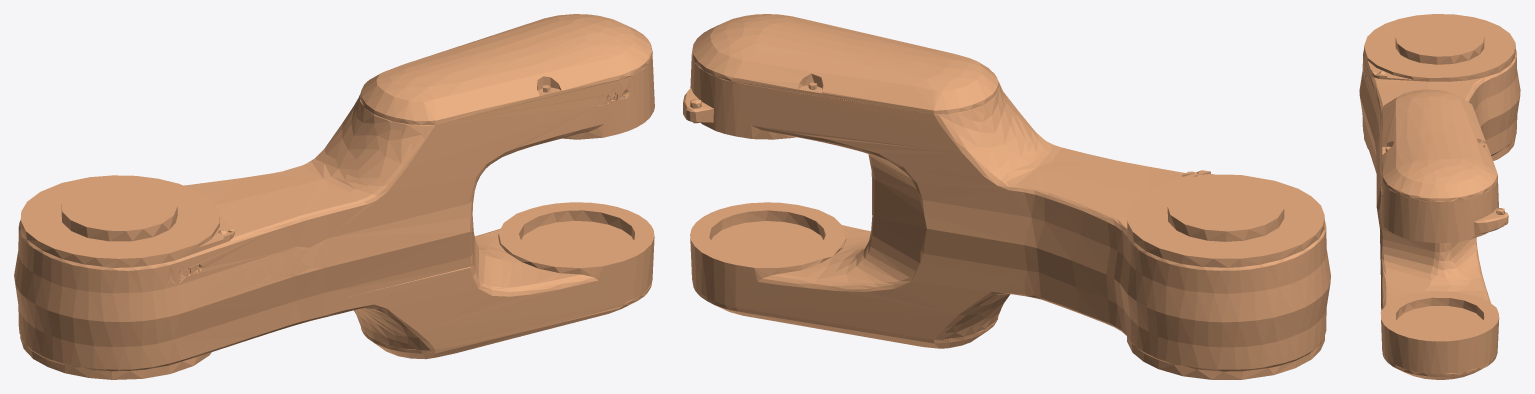
The picture shows the model from 3 angles, left to right: view 1: azimuth 30°, elevation 25°; view 2: azimuth 150°, elevation 25°; view 3: azimuth 270°, elevation 25°; orthographic projection. The views are drawn at different scales.
Visible parts, largest first — view 1: /Link_2/Link_2-mesh/0; view 2: /Link_2/Link_2-mesh/0; view 3: /Link_2/Link_2-mesh/0.
Boxes of the visible parts, bbox=[...] form: /Link_2/Link_2-mesh/0: bbox=[14, 14, 654, 379]; /Link_2/Link_2-mesh/0: bbox=[683, 14, 1330, 379]; /Link_2/Link_2-mesh/0: bbox=[1359, 14, 1520, 379].
Bounding box in the file's own units: 0.6123 × 0.2604 × 0.1809.
